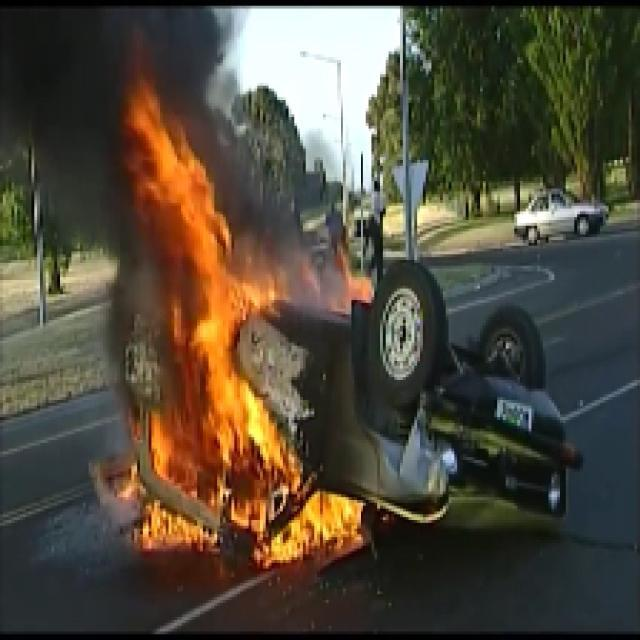Fire: (108, 54, 420, 600)
Smoke: (0, 3, 349, 340)
